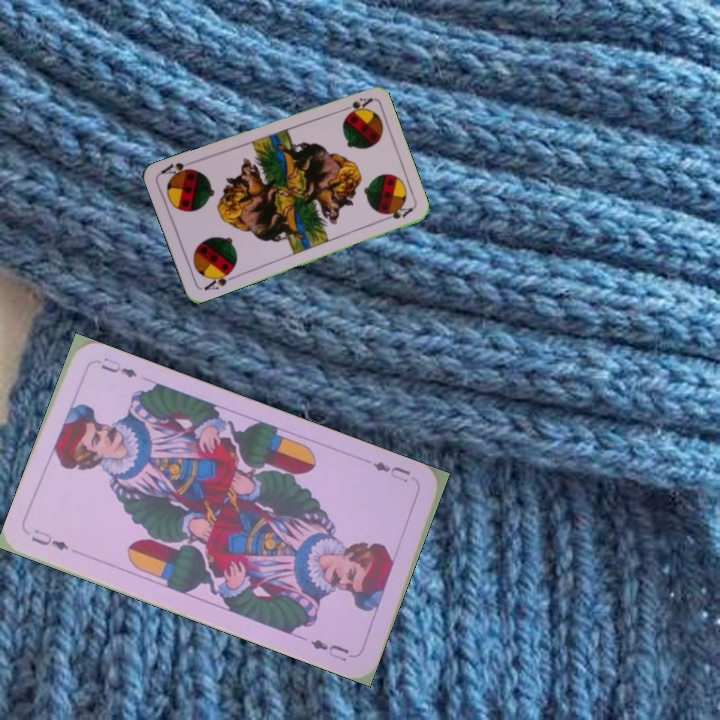EU: (368, 457, 413, 486), (27, 525, 72, 553)
SA: (200, 266, 238, 293), (335, 94, 374, 116)
